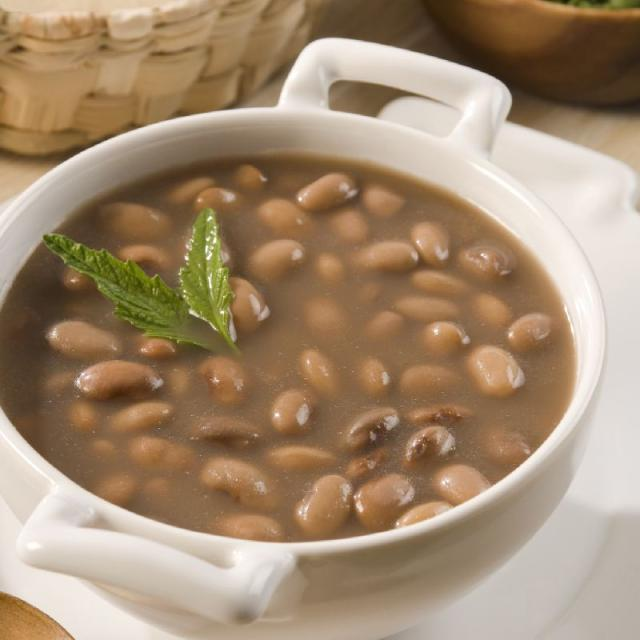frijoles: (15, 119, 560, 573)
